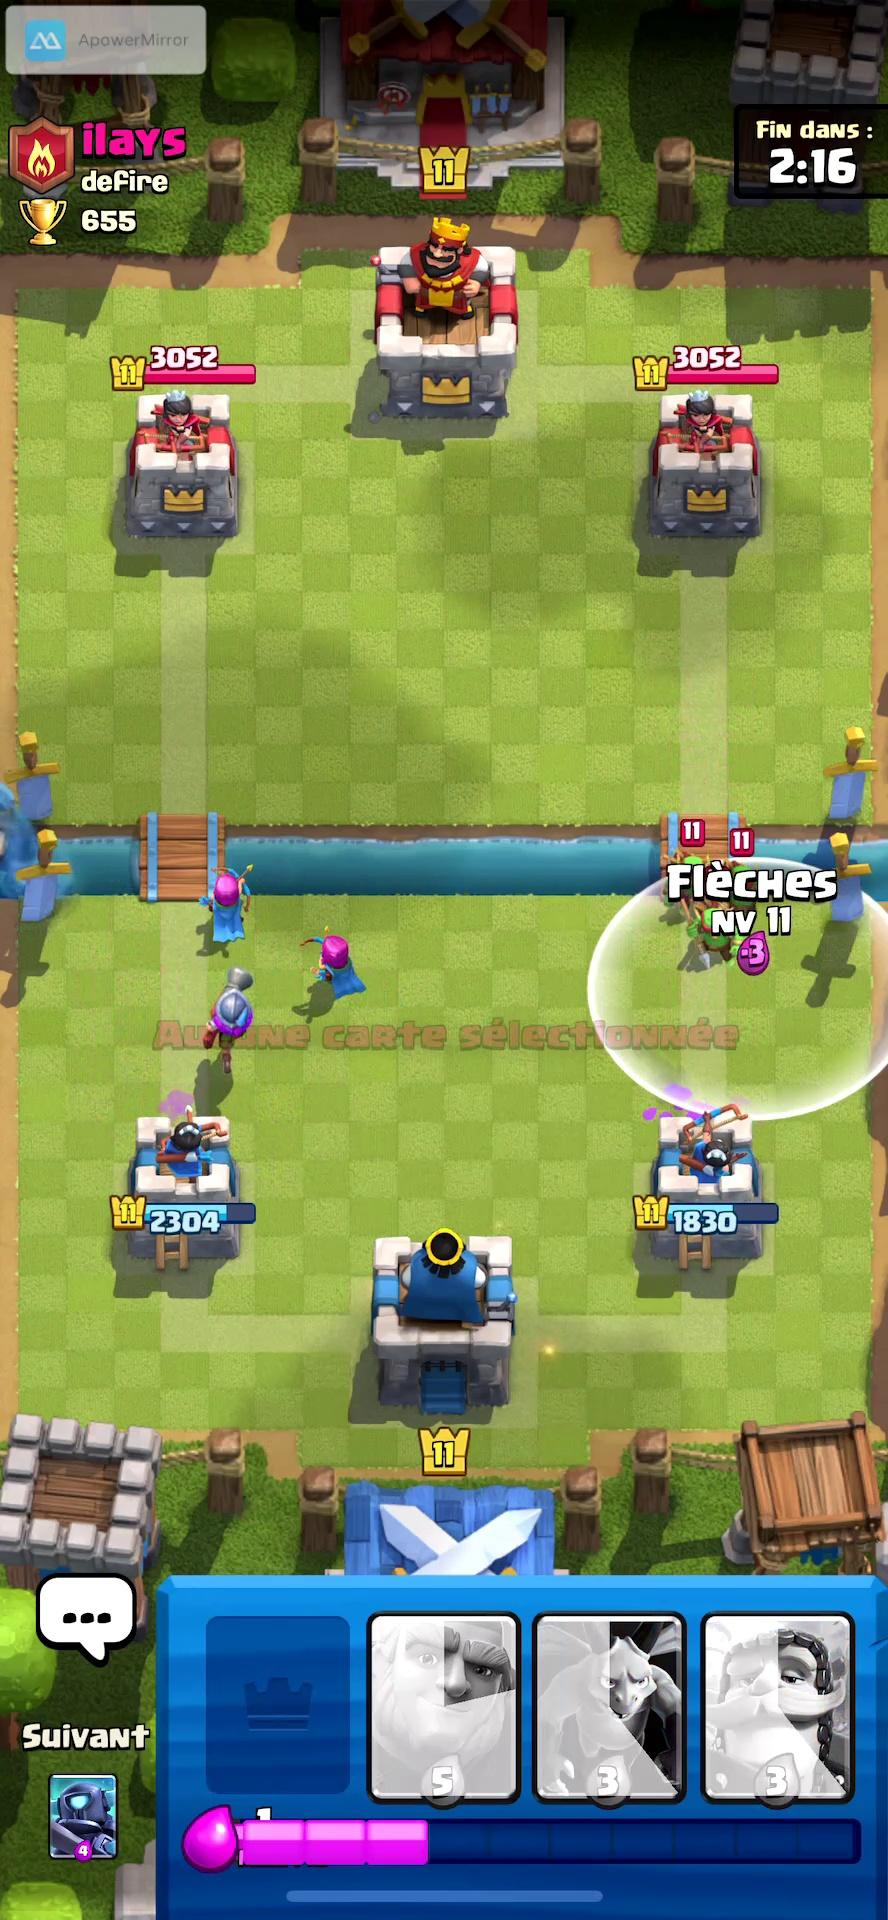archere: (292, 927, 385, 1010), (206, 961, 271, 1068), (197, 866, 271, 950)
gobelin_lances: (687, 907, 751, 970), (663, 849, 714, 909), (721, 856, 764, 923)
mousquetaire: (206, 961, 271, 1068)
